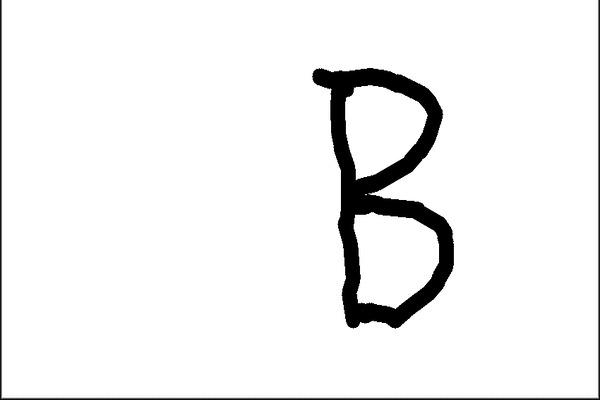B: (298, 52, 465, 335)
